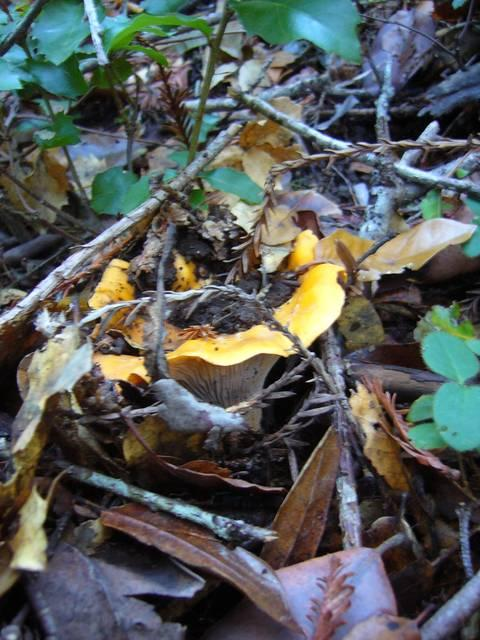edible_mushroom: (99, 255, 368, 454)
